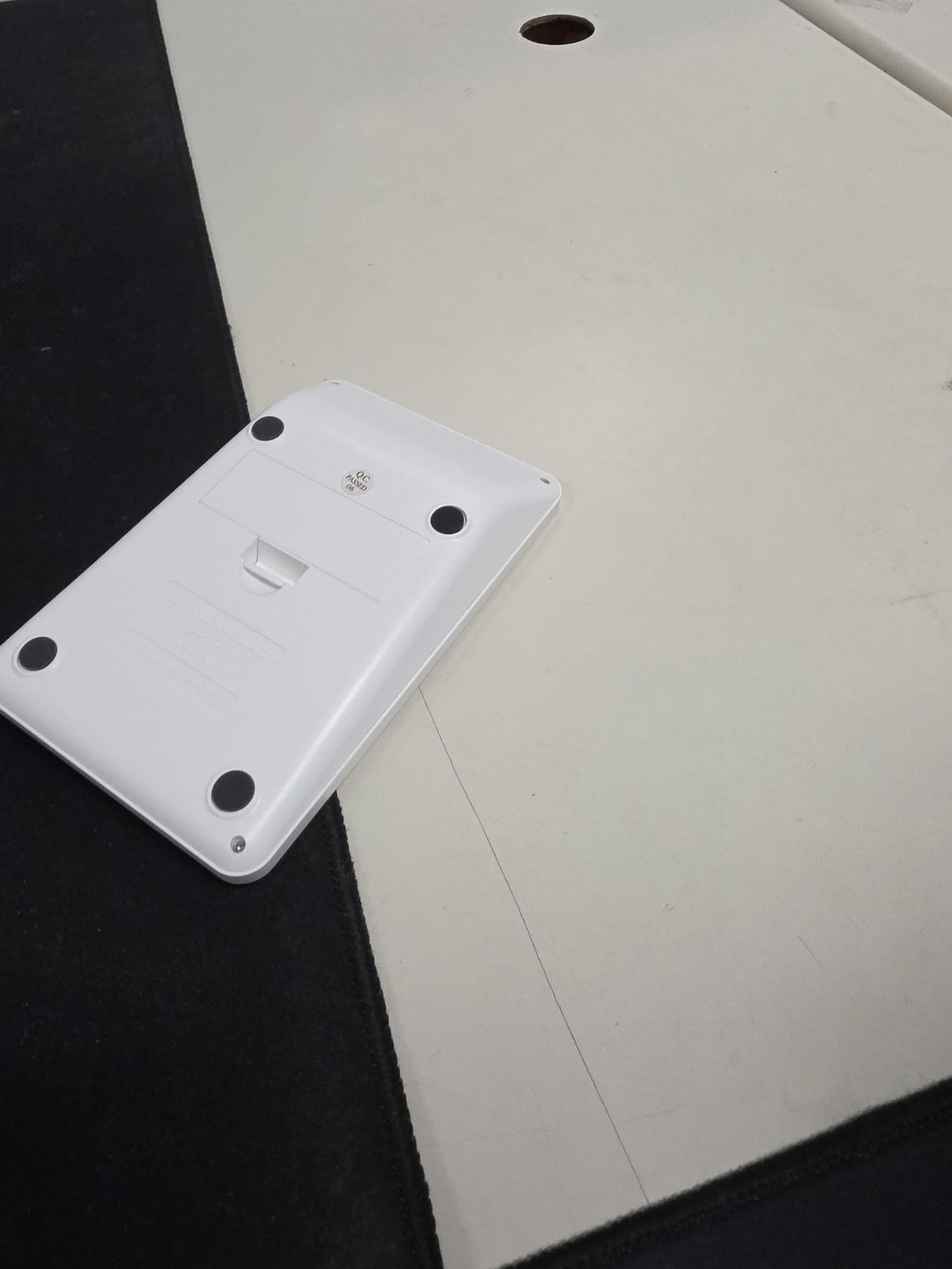calculator: (0, 378, 562, 884)
